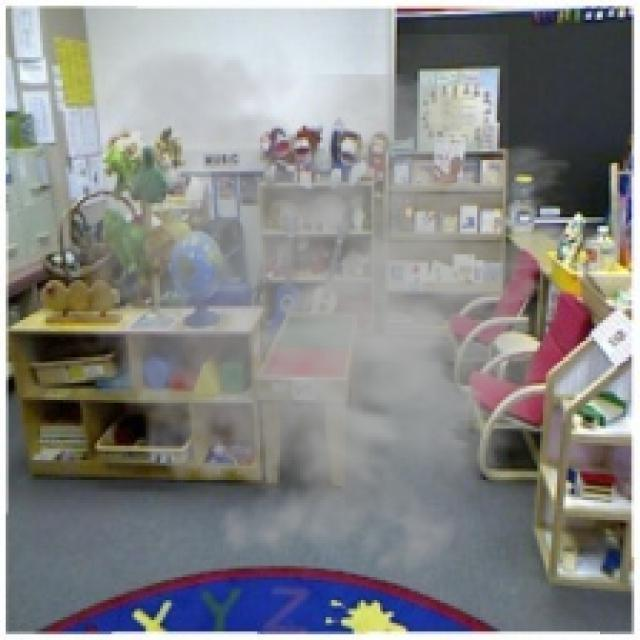Smoke: (40, 34, 609, 592)
